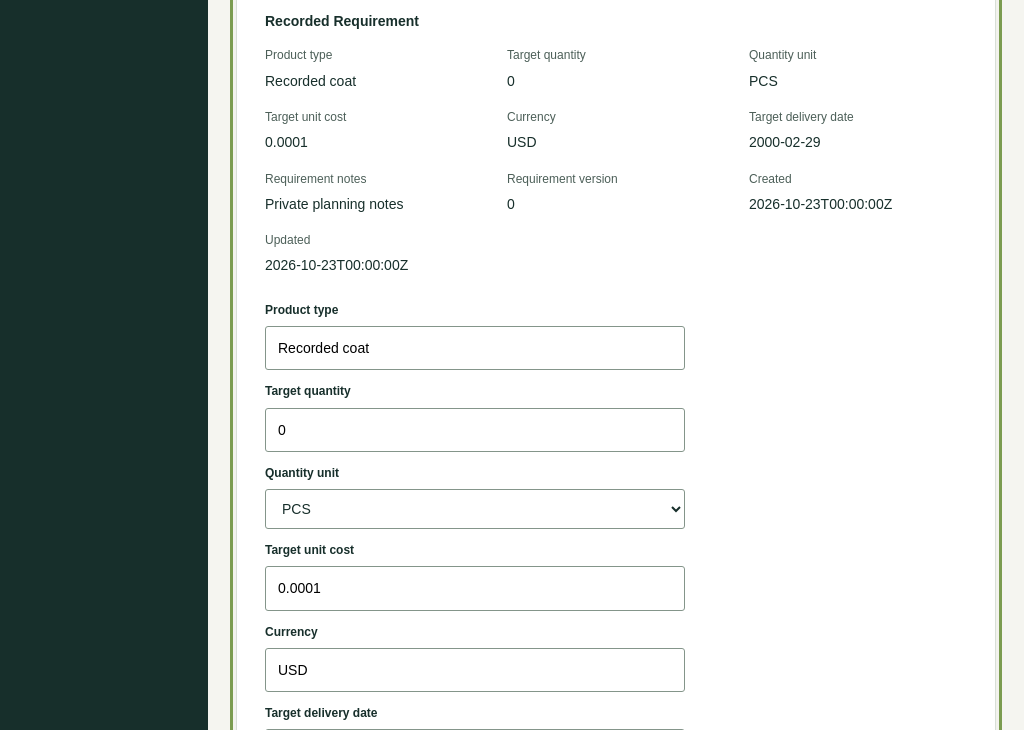
it: 409 refreshes archived project and makes retained draft read-only
(page scrolled)
Type " draft" into the field labelled "Product type" at (475, 348), box [265,326,685,370]
(page scrolled)
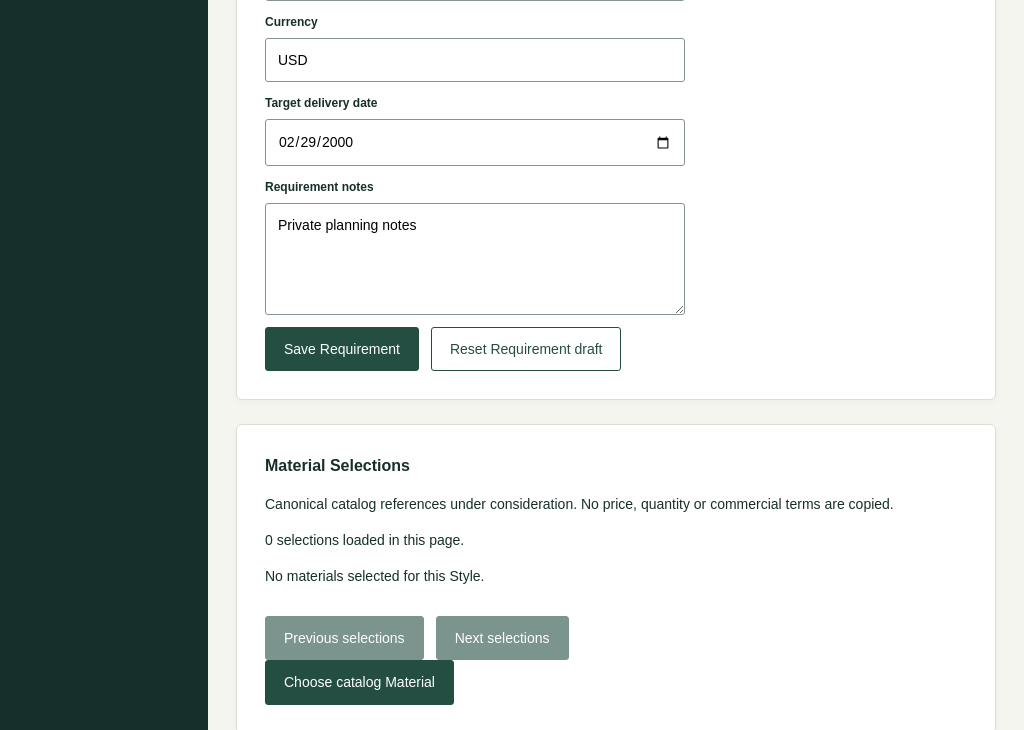
Click the button "Save Requirement" at (342, 349), box [265,327,419,371]
(page scrolled)
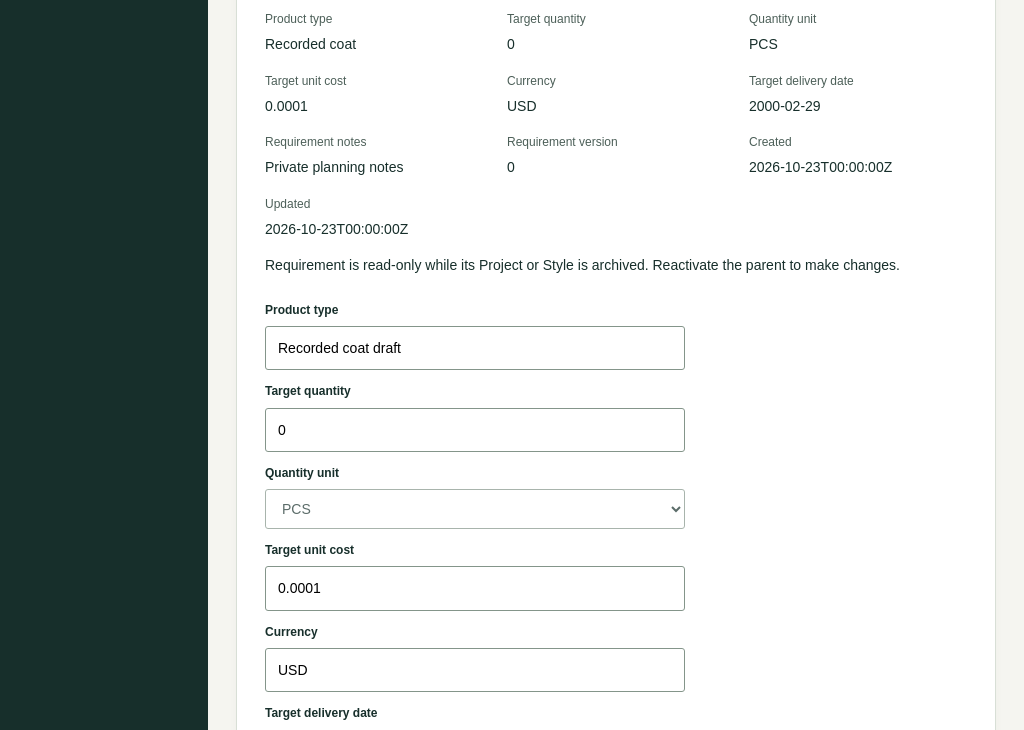
Check: the text "Requirement is read-only" is shown, box [265,257,900,273]
Check: the button "Save Requirement" is gone
